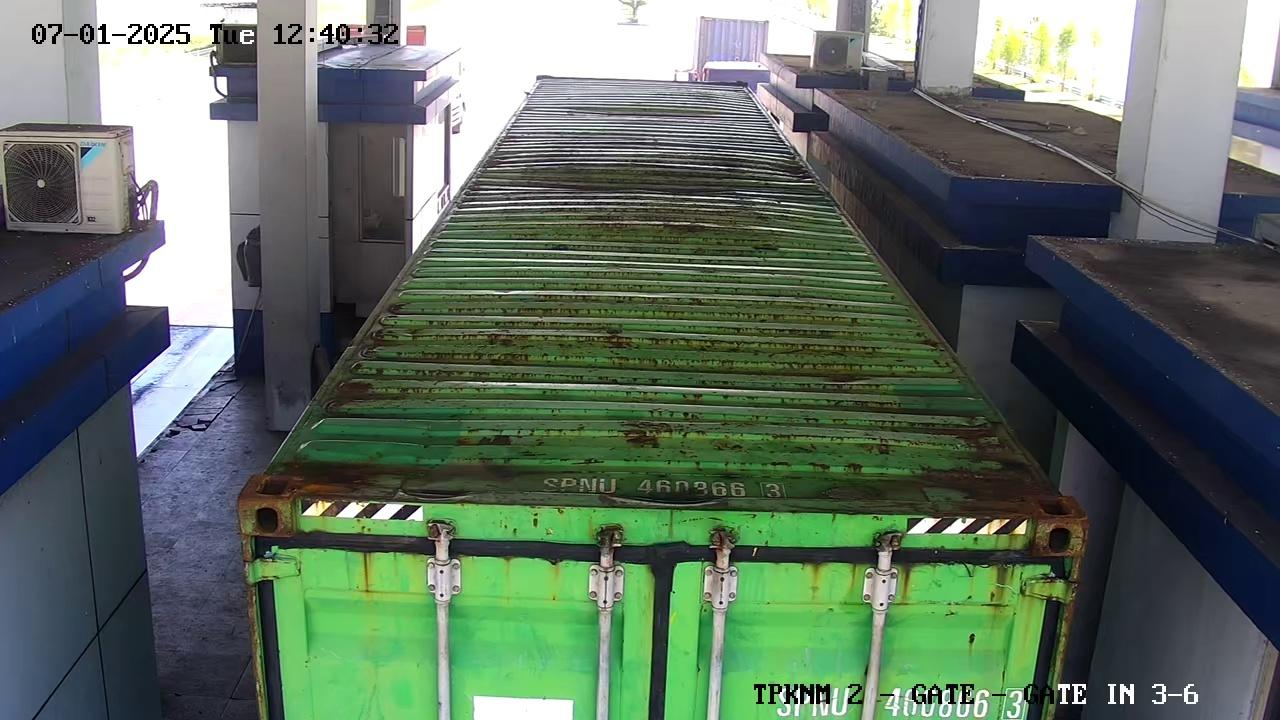Container_ID: (766, 673, 1025, 720), (527, 469, 799, 508)
